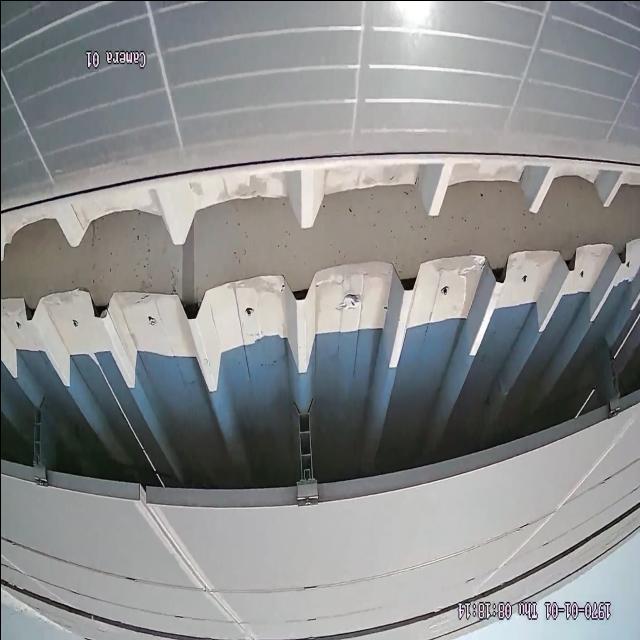interior panel: (134, 507, 253, 631)
outher panel: (0, 151, 640, 503)
